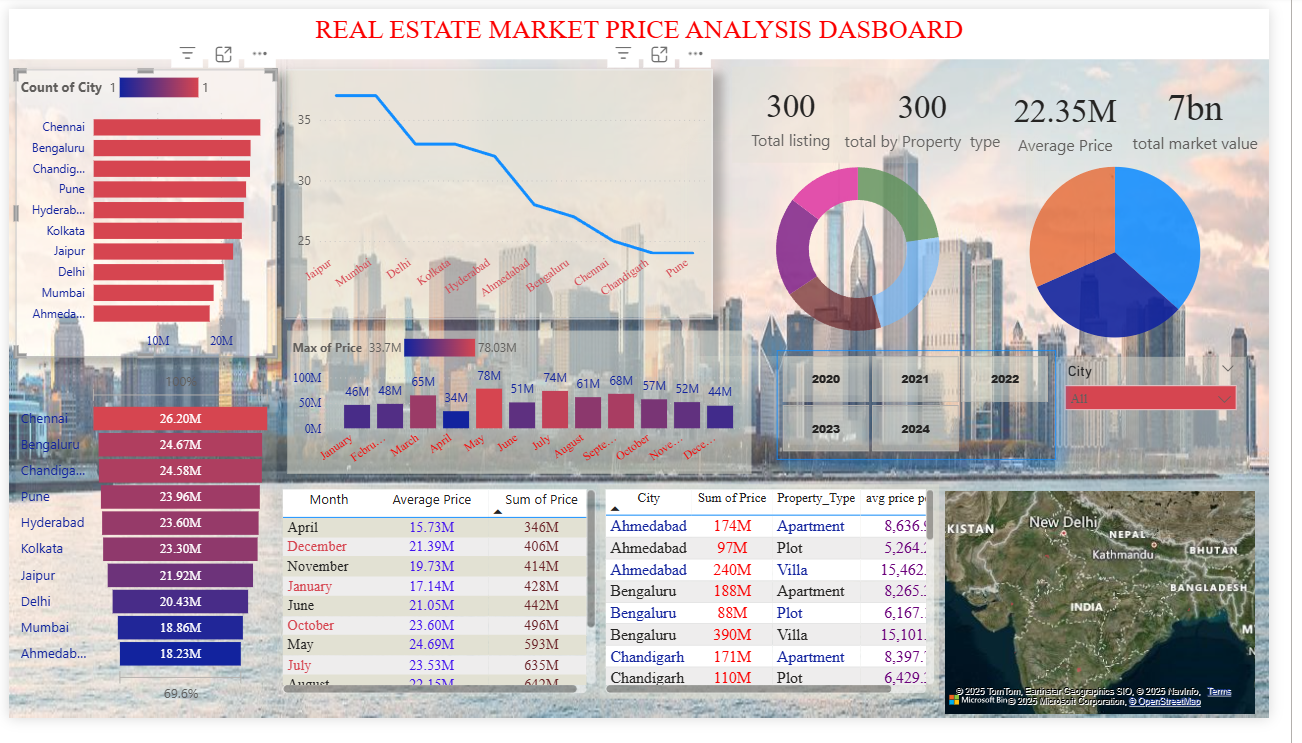

Layout of this report page (visuals, bound fields, positions):
{"tool":"powerbi","page":{"name":"Page 6","canvas":[1280,720],"ordinal":5},"visuals":[{"type":"textbox","box":[0,0,1280.3,51.2],"z":0},{"type":"barChart","fields":{"Y":["Real_Estate_Market_Data.Average Price"],"Category":["Real_Estate_Market_Data.City"]},"box":[6.4,61.8,265.3,291.1],"z":1000},{"type":"lineChart","fields":{"Category":["Real_Estate_Market_Data.City"],"Y":["CountNonNull(Real_Estate_Market_Data.Property_Type)"]},"box":[279.5,61.8,435.3,252.4],"z":2000},{"type":"card","fields":{"Values":["Real_Estate_Market_Data.Total listing"]},"box":[734.2,59.2,118.5,97.9],"z":3000},{"type":"card","fields":{"Values":["Real_Estate_Market_Data.total by Property  type"]},"box":[837.2,60.5,180.3,96.6],"z":4000},{"type":"card","fields":{"Values":["Real_Estate_Market_Data.Average Price"]},"box":[995.6,60.5,153.3,104.3],"z":5000},{"type":"card","fields":{"Values":["Real_Estate_Market_Data.total market value"]},"box":[1129.6,65.7,150.7,86.3],"z":6000},{"type":"donutChart","fields":{"Category":["Real_Estate_Market_Data.City"],"Y":["Count(Real_Estate_Market_Data.Property_ID)"]},"box":[690.4,135.2,342.6,217.7],"z":7000},{"type":"pieChart","fields":{"Y":["CountNonNull(Real_Estate_Market_Data.Property_ID)"],"Category":["Real_Estate_Market_Data.Property_Type"]},"box":[967.3,134,313,226.7],"z":8000},{"type":"funnel","fields":{"Y":["Real_Estate_Market_Data.Average Price"],"Category":["Real_Estate_Market_Data.City"]},"box":[6.4,361.9,265.3,347.8],"z":9000},{"type":"filledMap","fields":{"Category":["Real_Estate_Market_Data.City"],"Series":["Real_Estate_Market_Data.Property_Type"],"X":["Max(Real_Estate_Market_Data.Price)"],"Y":["Min(Real_Estate_Market_Data.Property_ID)"]},"box":[945.2,483.6,326,237],"z":10000},{"type":"slicer","fields":{"Values":["Real_Estate_Market_Data.City"]},"box":[1063,353.4,194.5,119.2],"z":11000},{"type":"columnChart","fields":{"Y":["Max(Real_Estate_Market_Data.Price)"],"Category":["Real_Estate_Market_Data.Date_Listed.Variation.Date Hierarchy.Month"]},"box":[282.1,327.1,471.4,145.5],"z":12000},{"type":"advancedSlicerVisual","fields":{"Values":["Real_Estate_Market_Data.Date_Listed.Variation.Date Hierarchy.Year"]},"box":[779.5,346.6,283.6,111],"z":13000},{"type":"tableEx","fields":{"Values":["Real_Estate_Market_Data.Date_Listed.Variation.Date Hierarchy.Month","Real_Estate_Market_Data.Average Price","Sum(Real_Estate_Market_Data.Price)"]},"box":[271.8,483,328.4,217.7],"z":14000},{"type":"tableEx","fields":{"Values":["Real_Estate_Market_Data.City","Sum(Real_Estate_Market_Data.Price)","Real_Estate_Market_Data.Property_Type","Real_Estate_Market_Data.avg price per sqft"]},"box":[600.2,483,345.2,217.7],"z":15000}]}

Visuals, with their boxes in screenshot pixels (x1, y1, x2, y2), scaled from the page's 1280x720 canvas onto the 1302x743 screenshot:
textbox: box(0, 0, 1301, 53)
barChart - Real_Estate_Market_Data.Average Price x Real_Estate_Market_Data.City: box(7, 64, 276, 364)
lineChart - Real_Estate_Market_Data.City x CountNonNull(Real_Estate_Market_Data.Property_Type): box(284, 64, 727, 324)
card - Real_Estate_Market_Data.Total listing: box(747, 61, 867, 162)
card - Real_Estate_Market_Data.total by Property  type: box(852, 62, 1035, 162)
card - Real_Estate_Market_Data.Average Price: box(1013, 62, 1169, 170)
card - Real_Estate_Market_Data.total market value: box(1149, 68, 1301, 157)
donutChart - Real_Estate_Market_Data.City x Count(Real_Estate_Market_Data.Property_ID): box(702, 140, 1051, 364)
pieChart - CountNonNull(Real_Estate_Market_Data.Property_ID) x Real_Estate_Market_Data.Property_Type: box(984, 138, 1301, 372)
funnel - Real_Estate_Market_Data.Average Price x Real_Estate_Market_Data.City: box(7, 373, 276, 732)
filledMap - Real_Estate_Market_Data.City x Real_Estate_Market_Data.Property_Type: box(961, 499, 1293, 742)
slicer - Real_Estate_Market_Data.City: box(1081, 365, 1279, 488)
columnChart - Max(Real_Estate_Market_Data.Price) x Real_Estate_Market_Data.Date_Listed.Variation.Date Hierarchy.Month: box(287, 338, 766, 488)
advancedSlicerVisual - Real_Estate_Market_Data.Date_Listed.Variation.Date Hierarchy.Year: box(793, 358, 1081, 472)
tableEx - Real_Estate_Market_Data.Date_Listed.Variation.Date Hierarchy.Month x Real_Estate_Market_Data.Average Price: box(276, 498, 611, 723)
tableEx - Real_Estate_Market_Data.City x Sum(Real_Estate_Market_Data.Price): box(611, 498, 962, 723)
